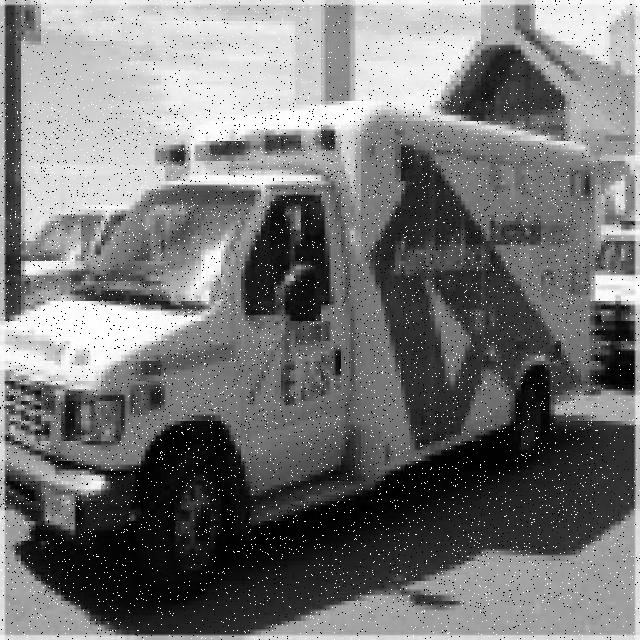Ambulance: (0, 102, 599, 604)
